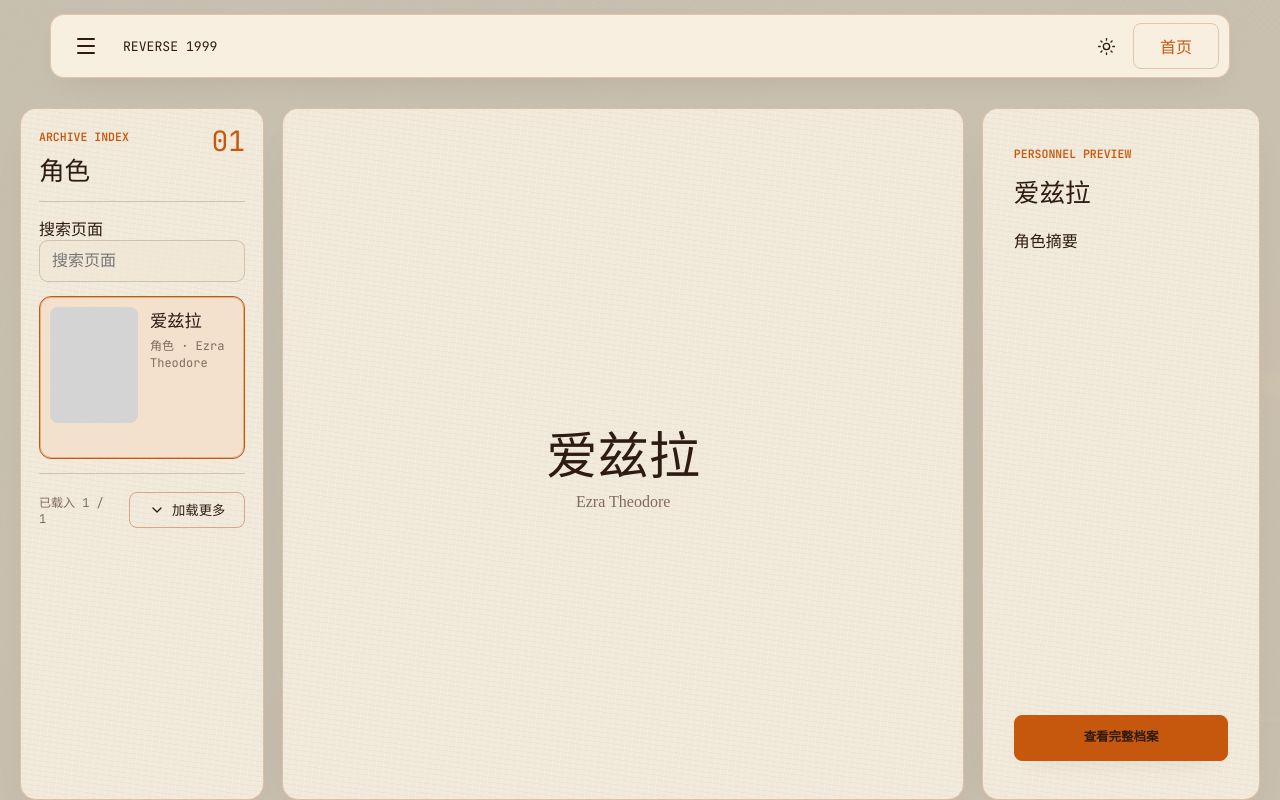
WikiShell › keeps loaded items visible when loading the next page returns 503
expect the button "爱兹拉 角色 · Ezra Theodore" is shown: met, box [39,296,245,459]
Click the button with aria-label "加载更多档案".
click(187, 510)  # box [129,492,245,528]
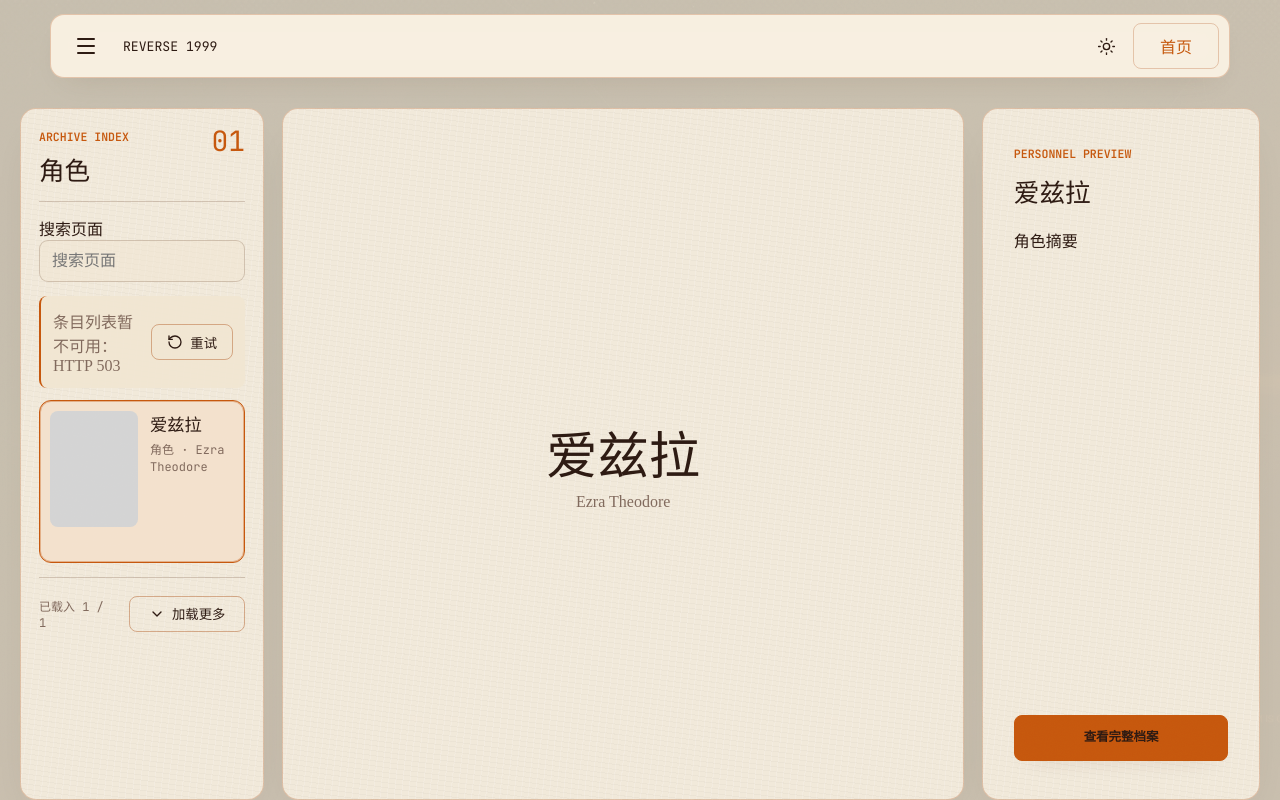
expect the button "爱兹拉 角色 · Ezra Theodore" is shown: met, box [39,400,245,563]
expect the text "条目列表暂不可用：HTTP 503" is shown: met, box [53,309,139,375]
